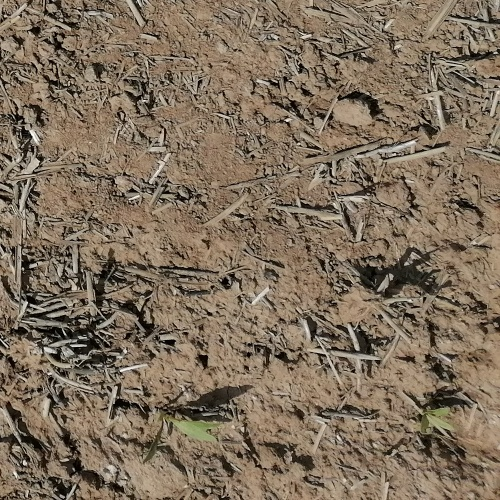beet: (141, 409, 226, 470), (417, 407, 455, 436)
